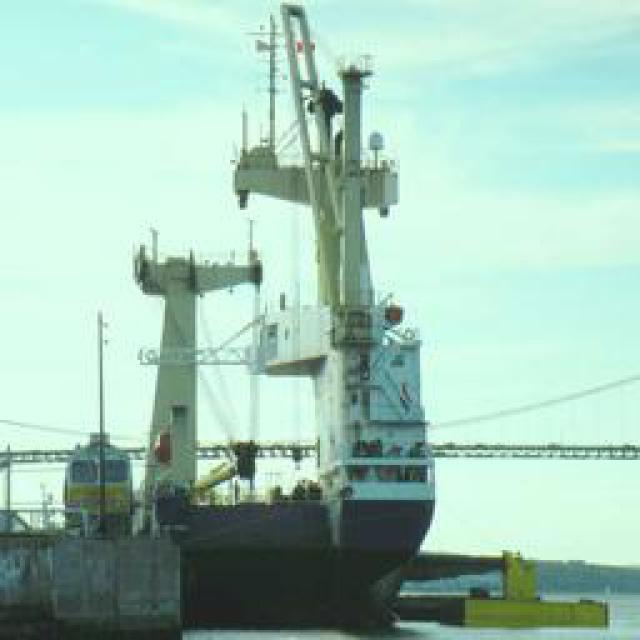Ship: (134, 1, 437, 606)
